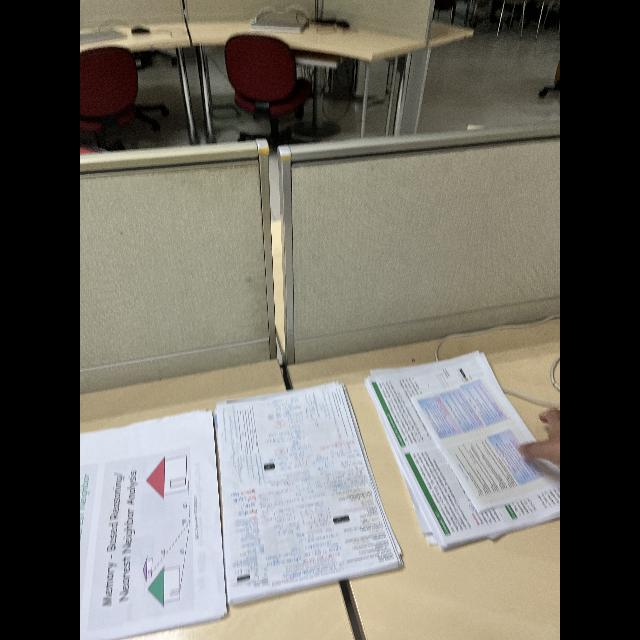reuseable_paper: (80, 376, 400, 640), (362, 348, 560, 554)
